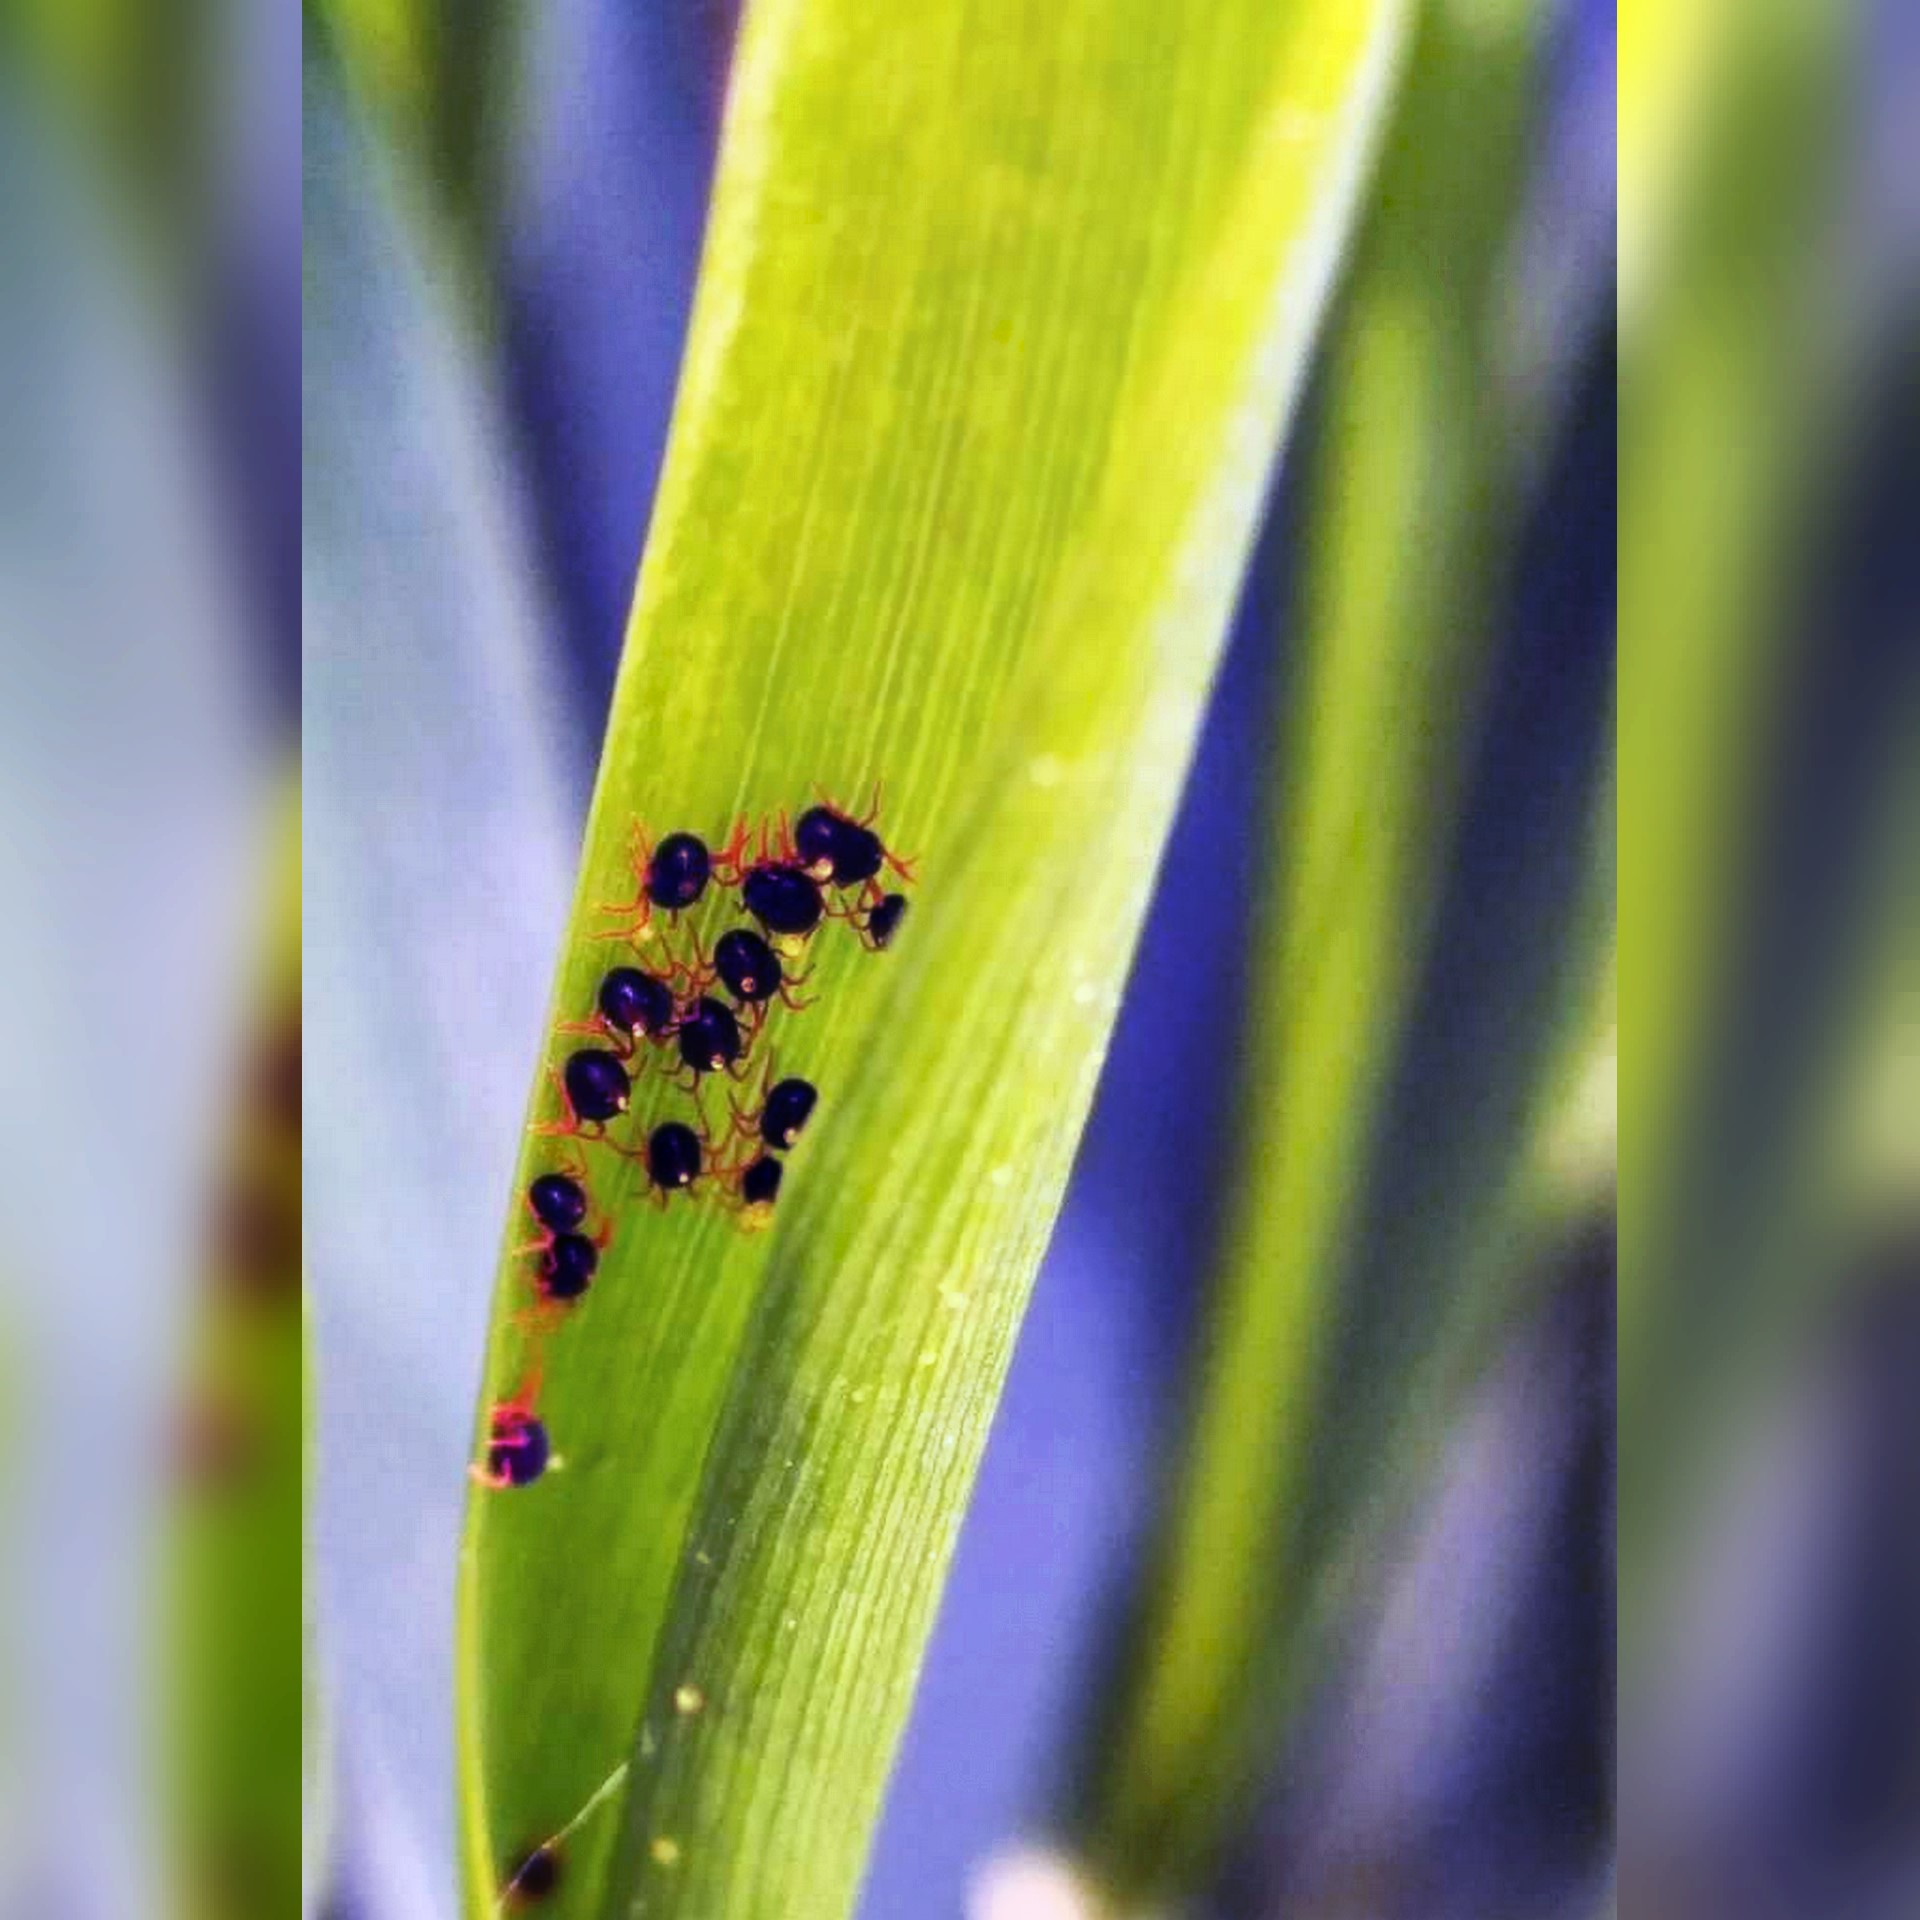Wheat Red Spider: (527, 760, 964, 1204)
